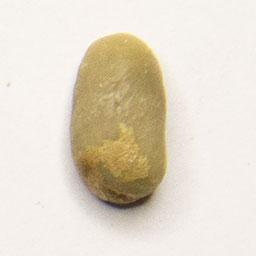longberry: (67, 30, 170, 212)
